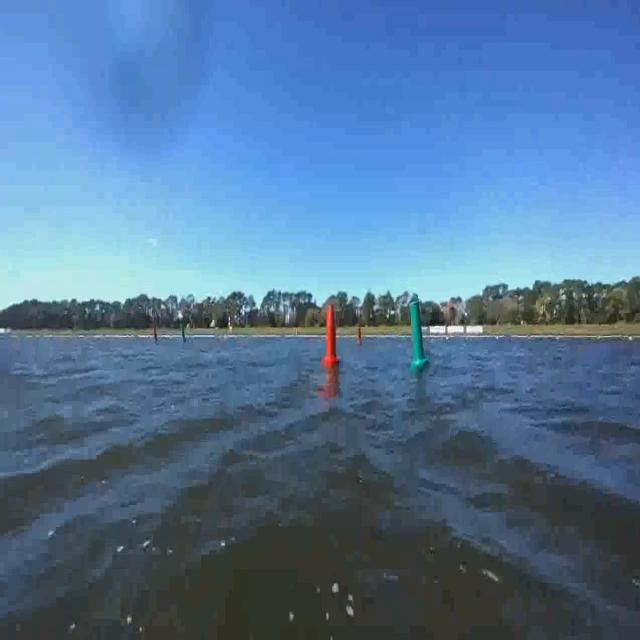green-column-buoy: (409, 302, 431, 371), (183, 323, 190, 346)
red-column-buoy: (322, 300, 340, 366), (356, 325, 364, 348), (152, 323, 158, 343)
